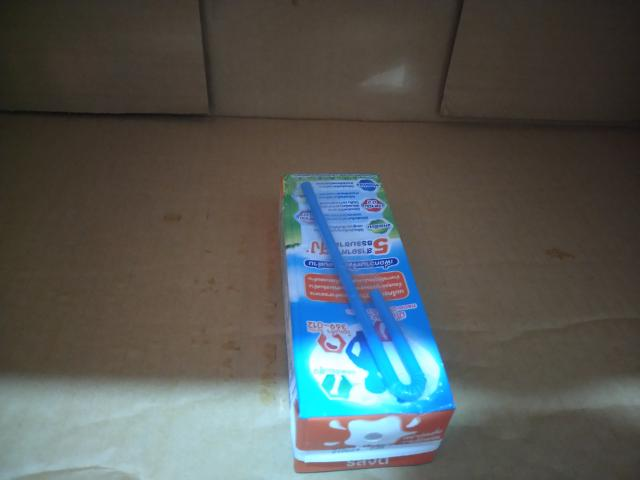drink_box: (266, 156, 464, 480)
